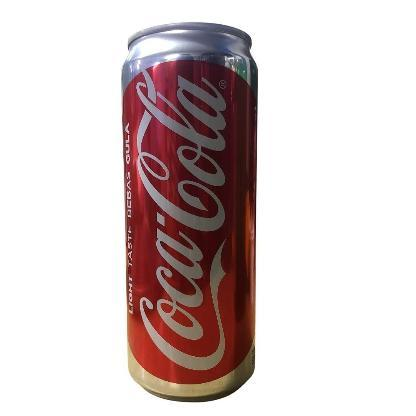Can: (122, 25, 258, 402)
